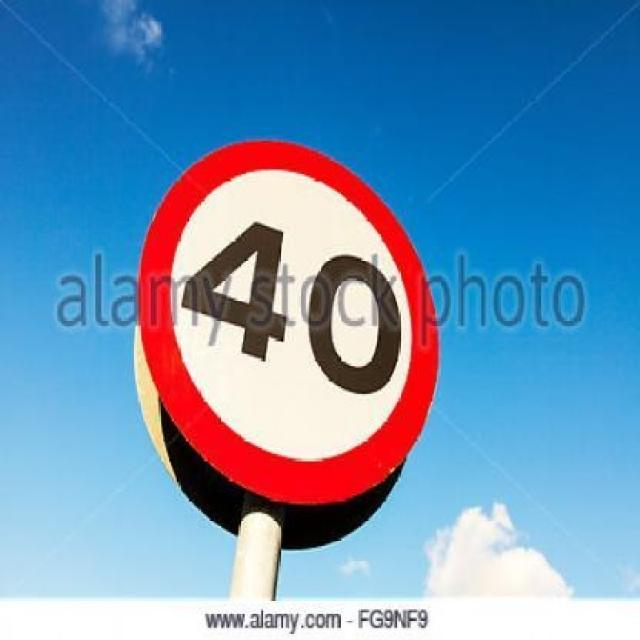forb_speed_over_40: (141, 140, 439, 502)
